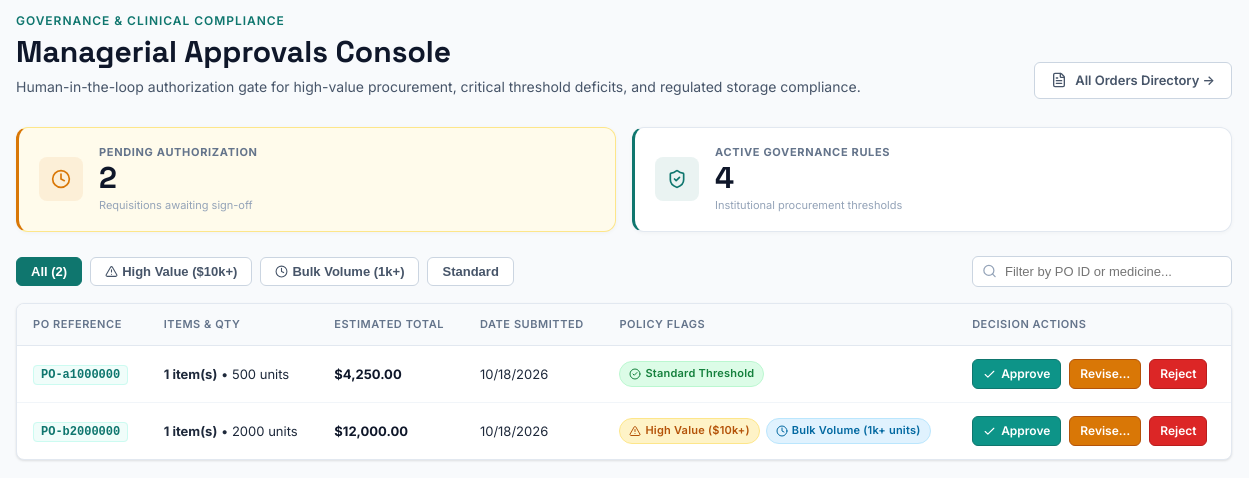
Procurement Approval & Rejection Synchronization Suite › filters orders by category correctly
Expected: the text "PO-a1000000" is shown, [33,365,128,385]
Click the button "High Value ($10k+)" at (171, 271), box [90,257,252,286]
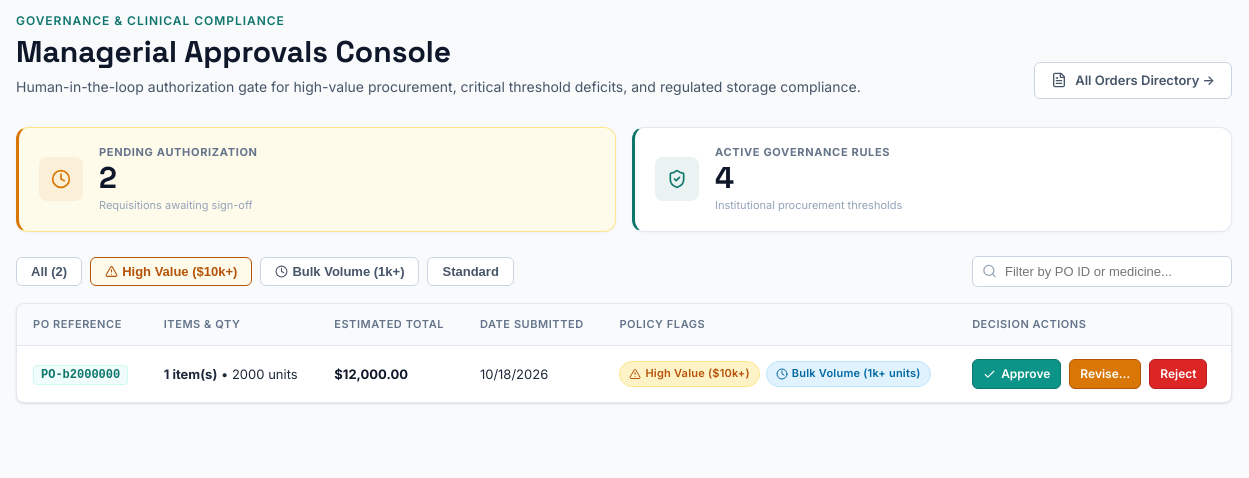
Expected: the text "PO-b2000000" is shown, [33,365,128,385]
Expected: the text "PO-a1000000" is gone
